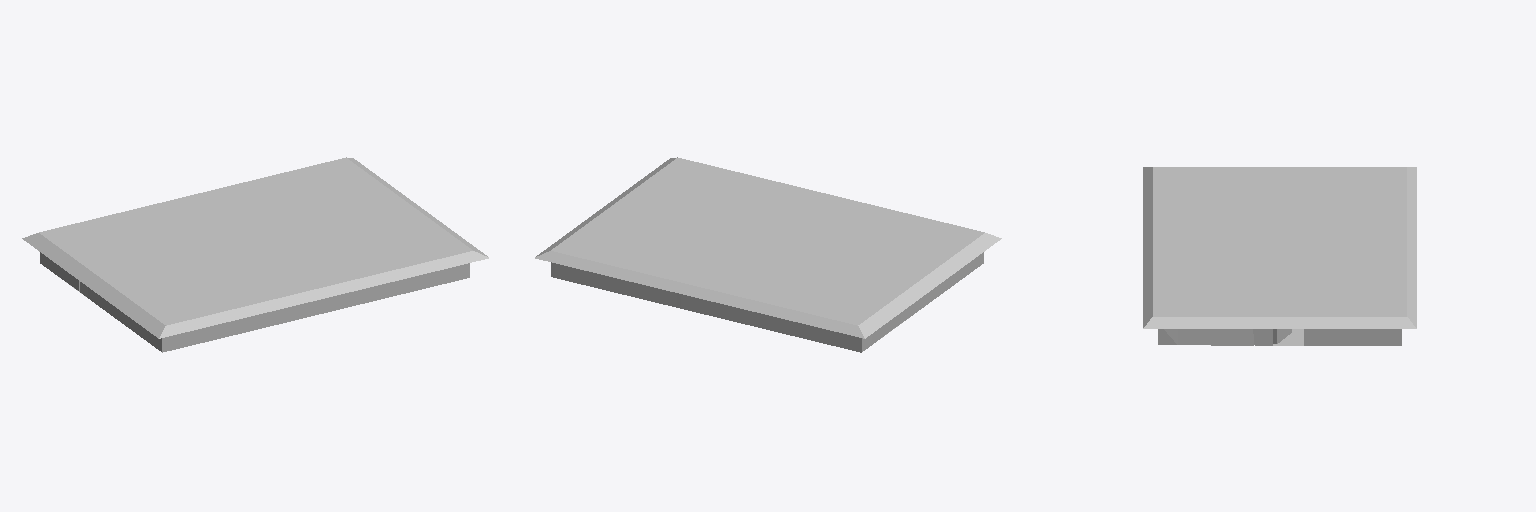
The model's file is Museum.obj.
3 renders of one model, left to right at view 1: azimuth 30°, elevation 25°; view 2: azimuth 150°, elevation 25°; view 3: azimuth 270°, elevation 25°, orthographic.
Parts seen in each view (by area): view 1: Roof_Cube.001, Museum_Cube; view 2: Roof_Cube.001, Museum_Cube; view 3: Roof_Cube.001, Museum_Cube.
Boxes of the visible parts, <box> form: Roof_Cube.001: <box>22,157,488,338</box>; Museum_Cube: <box>40,252,469,352</box>; Roof_Cube.001: <box>535,157,1001,338</box>; Museum_Cube: <box>551,252,983,352</box>; Roof_Cube.001: <box>1143,167,1416,328</box>; Museum_Cube: <box>1158,329,1401,345</box>.
Bounding box in the file's own units: 202 × 16.8 × 145.